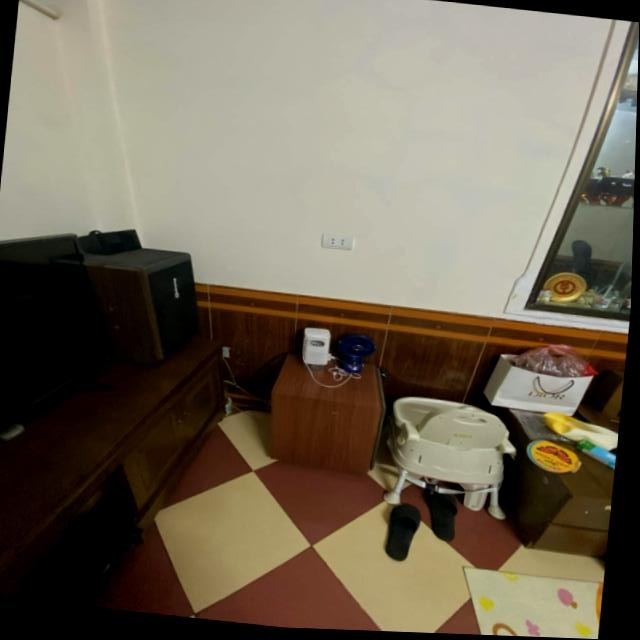outlet: (322, 231, 356, 250)
